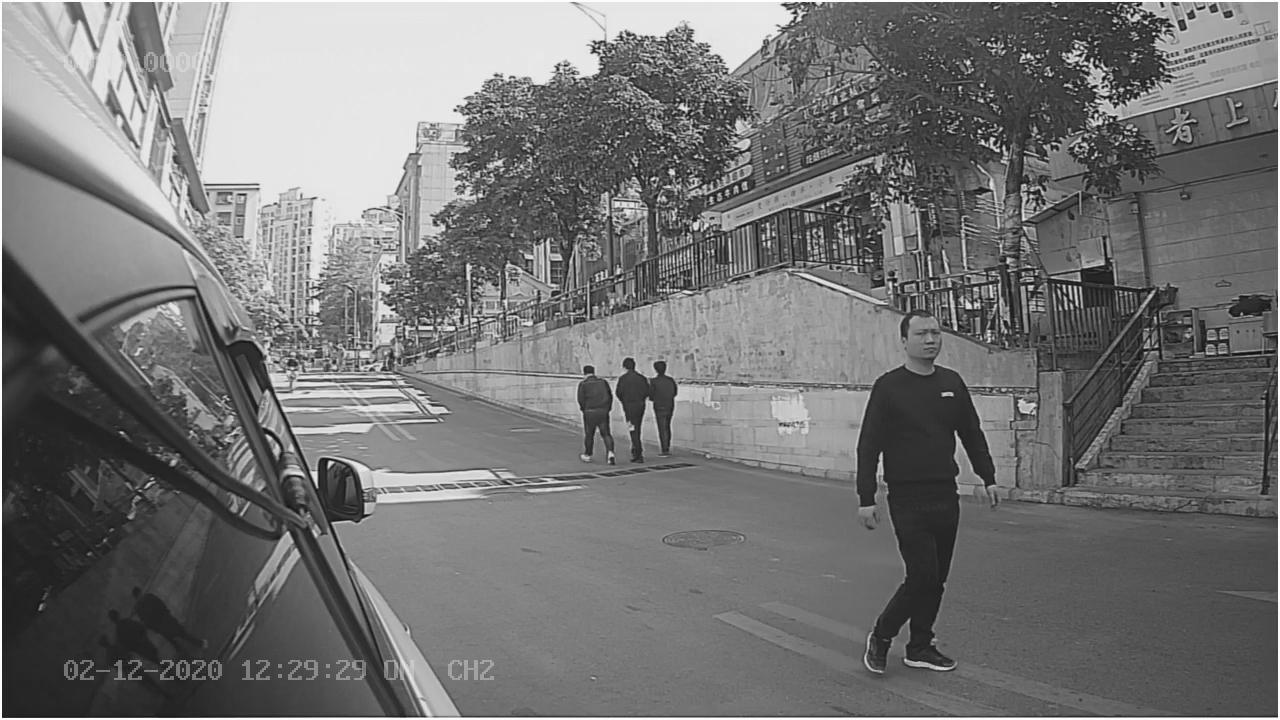person: (840, 295, 995, 679)
